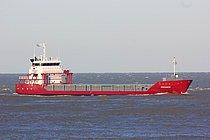Ship: (15, 42, 196, 97)
